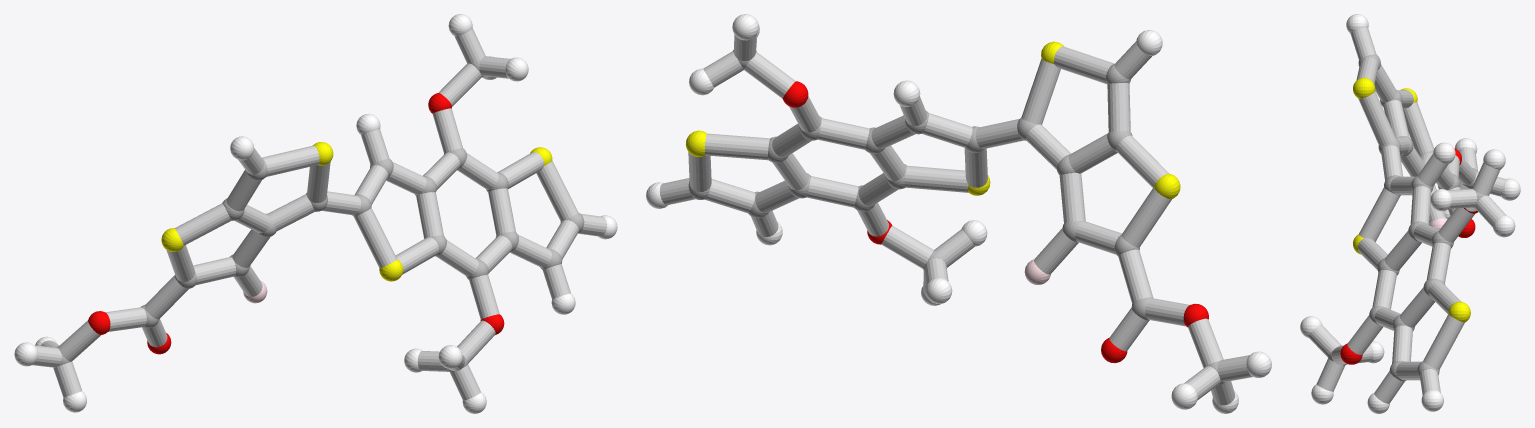
The model's file is color.glb.
3 renders of one model, left to right at view 1: azimuth 30°, elevation 25°; view 2: azimuth 150°, elevation 25°; view 3: azimuth 270°, elevation 25°, orthographic. The views are drawn at different scales.
Visible parts, largest first — view 1: grp15205, grp8689, grp1, grp7241, grp13395; view 2: grp15205, grp8689, grp1, grp13395, grp7241; view 3: grp15205, grp8689, grp1, grp7241, grp13395.
Part boxes in pixels (left/top/right/bottom): grp15205: left=32, top=28, right=607, bottom=400; grp8689: left=14, top=14, right=617, bottom=413; grp1: left=55, top=59, right=584, bottom=372; grp7241: left=161, top=142, right=552, bottom=281; grp13395: left=88, top=93, right=504, bottom=354; grp15205: left=659, top=34, right=1252, bottom=405; grp8689: left=646, top=14, right=1271, bottom=413; grp1: left=688, top=49, right=1224, bottom=385; grp13395: left=782, top=81, right=1208, bottom=363; grp7241: left=686, top=41, right=1180, bottom=199; grp15205: left=1308, top=27, right=1506, bottom=403; grp8689: left=1300, top=14, right=1520, bottom=413; grp1: left=1328, top=54, right=1484, bottom=381; grp7241: left=1353, top=77, right=1470, bottom=322; grp13395: left=1340, top=148, right=1477, bottom=364.
Bounding box in the file's own units: 16.7 × 8.6 × 5.9.
